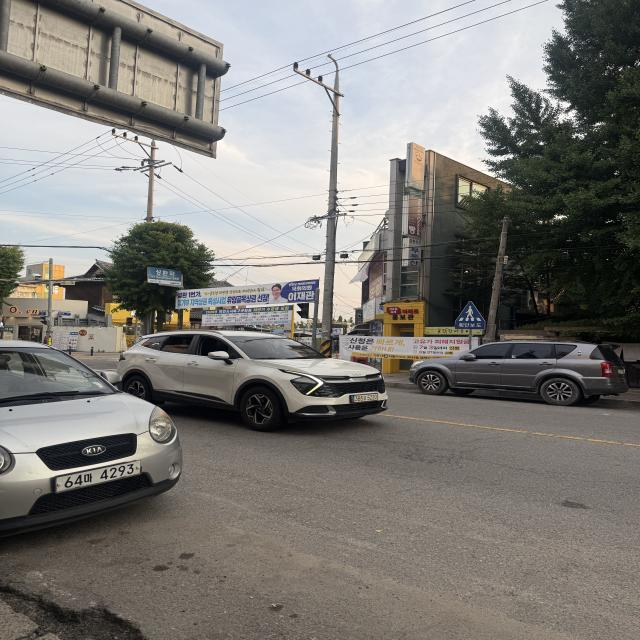car: (0, 334, 186, 548), (116, 327, 374, 432), (420, 337, 622, 405)
